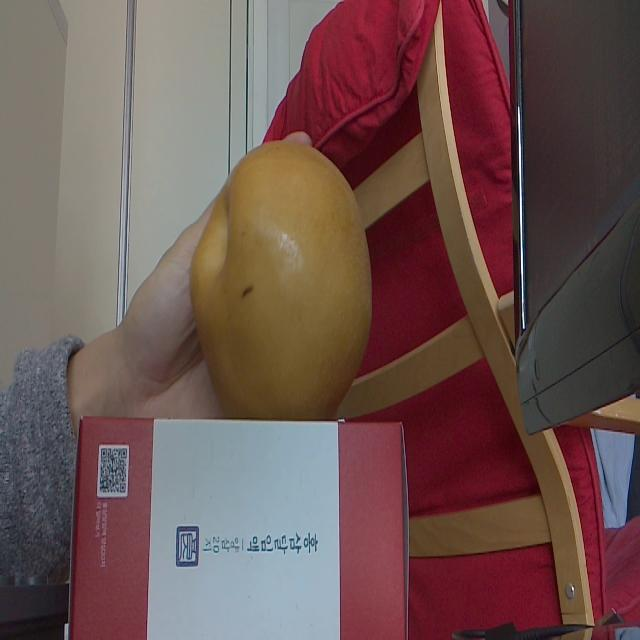pear: (190, 137, 374, 419)
